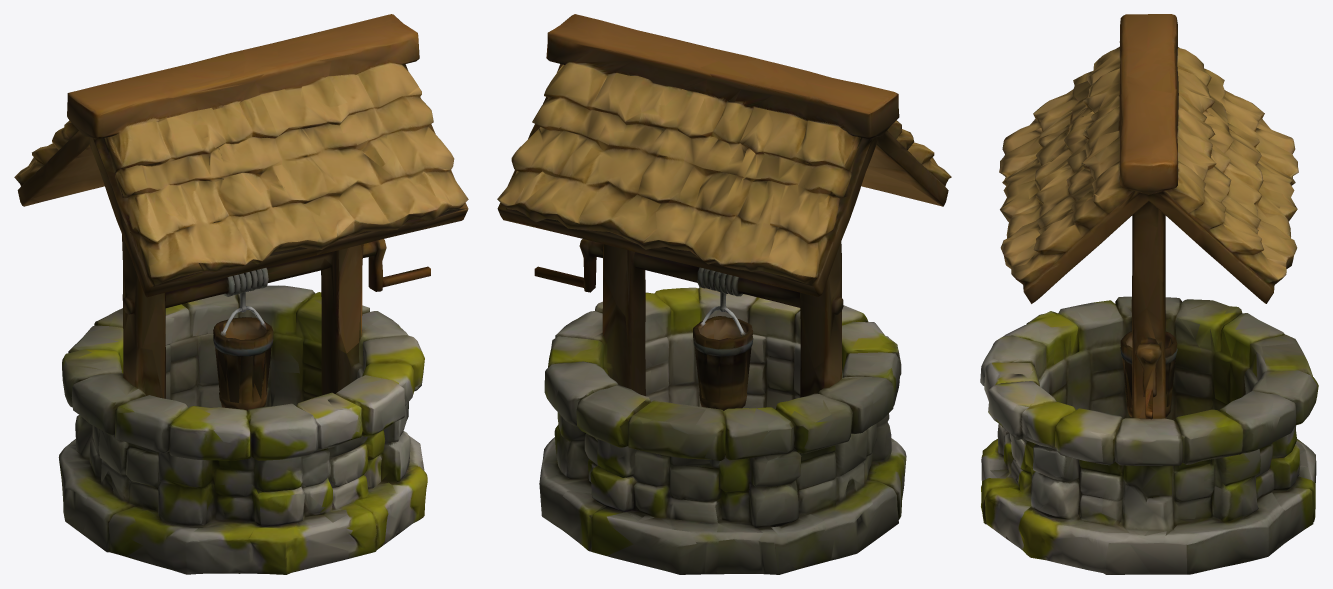
The model's file is well.glb.
3 renders of one model, left to right at view 1: azimuth 30°, elevation 25°; view 2: azimuth 150°, elevation 25°; view 3: azimuth 270°, elevation 25°, orthographic. The views are drawn at different scales.
Parts seen in each view (by area): view 1: well; view 2: well; view 3: well.
Part boxes in pixels (x1,y1,x2,y2): well: (14,14,468,574); well: (497,14,951,574); well: (980,14,1318,574).
Bounding box in the file's own units: 0.8168 × 0.9797 × 0.7226.
Materials: 1 (1 with a texture image).
